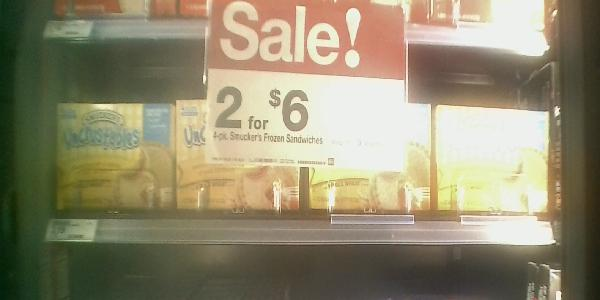icecream: (304, 97, 432, 215), (174, 98, 304, 214), (431, 101, 555, 221), (52, 100, 178, 212)
